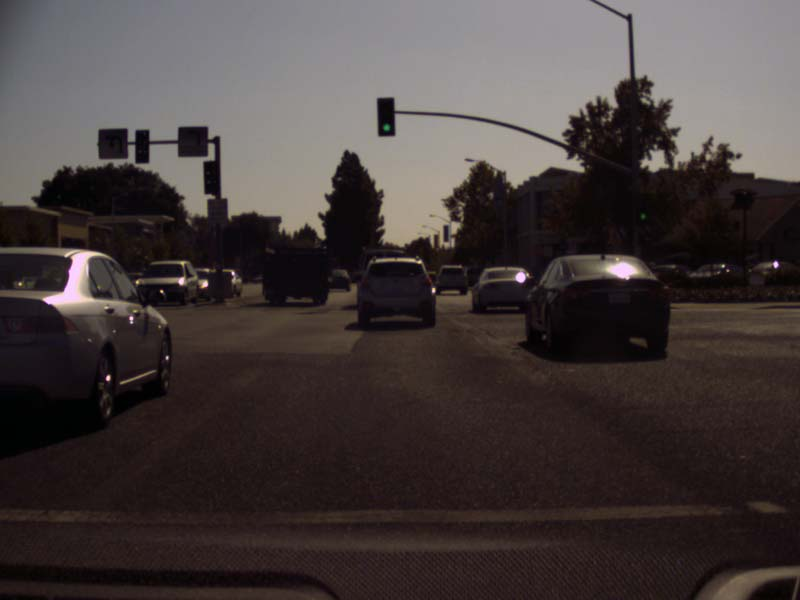Green: (376, 97, 394, 135), (634, 192, 648, 225)
